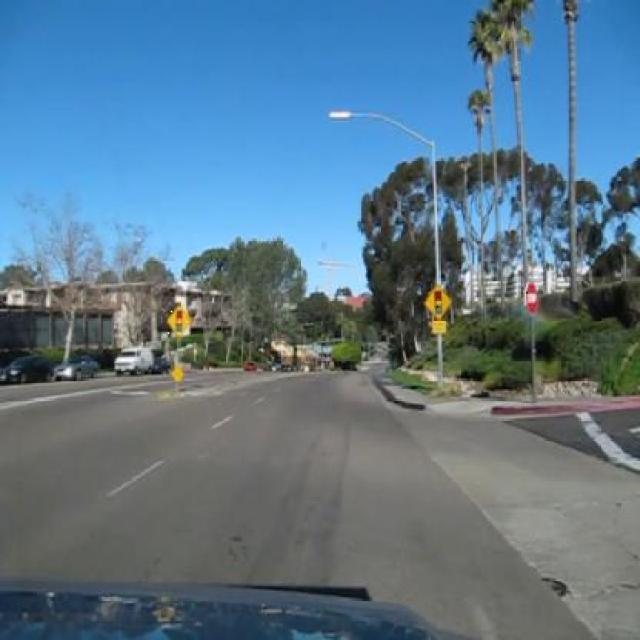signalAhead: (423, 283, 451, 320), (166, 303, 192, 337)
stop: (523, 280, 538, 313)
